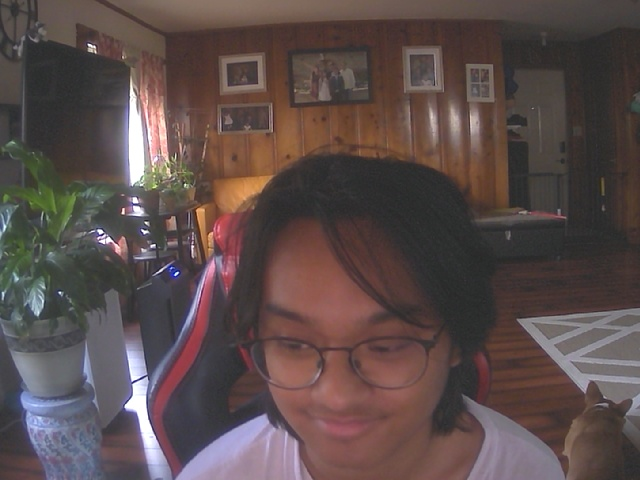happy: (236, 175, 472, 472)
